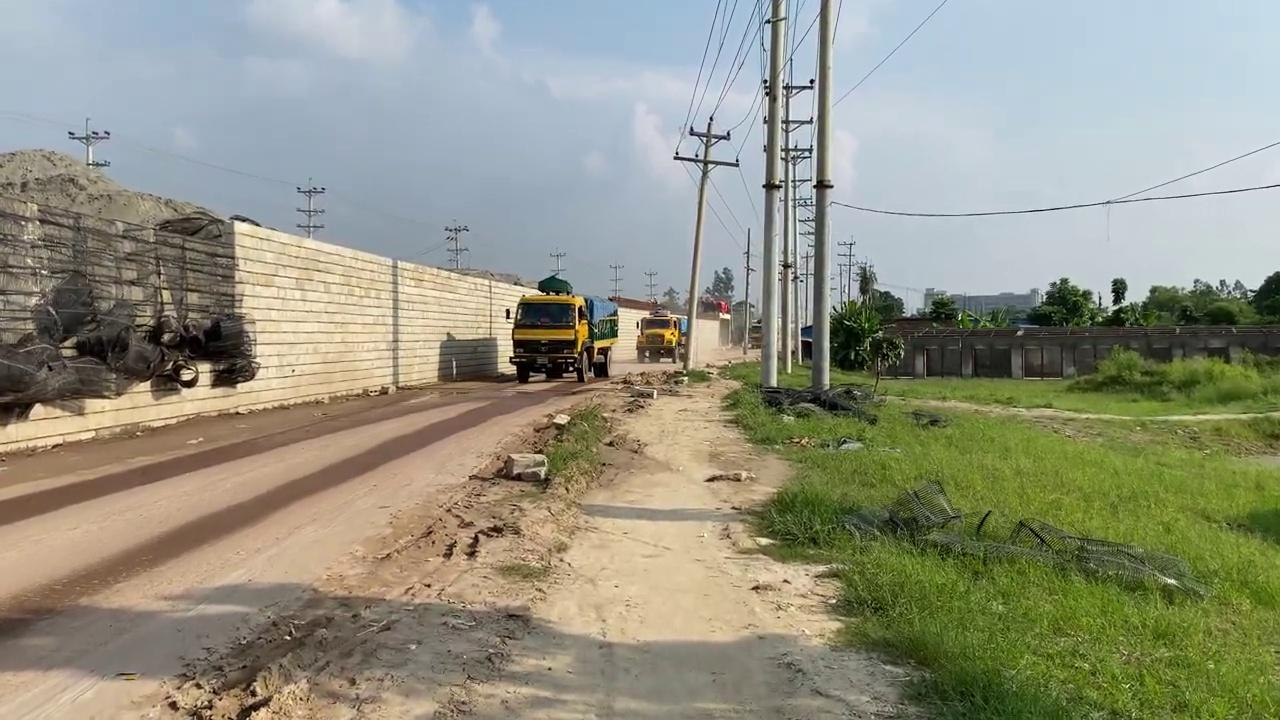Fence: (0, 193, 548, 451)
Garbage: (0, 274, 259, 407)
Muddy road: (1, 346, 926, 718)
Pole: (758, 0, 786, 388), (810, 0, 834, 391)
Tree: (504, 274, 619, 383), (634, 307, 683, 363), (699, 296, 730, 316)
